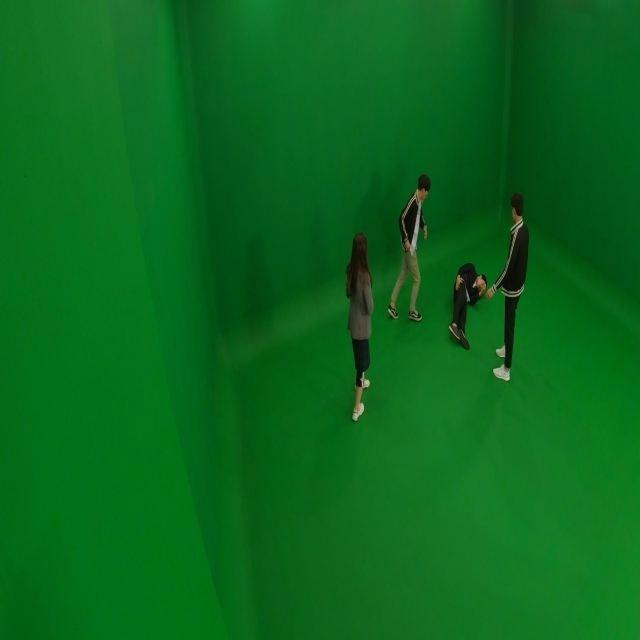fight: (448, 187, 532, 383)
non-fight: (342, 233, 378, 422), (387, 172, 431, 323)
